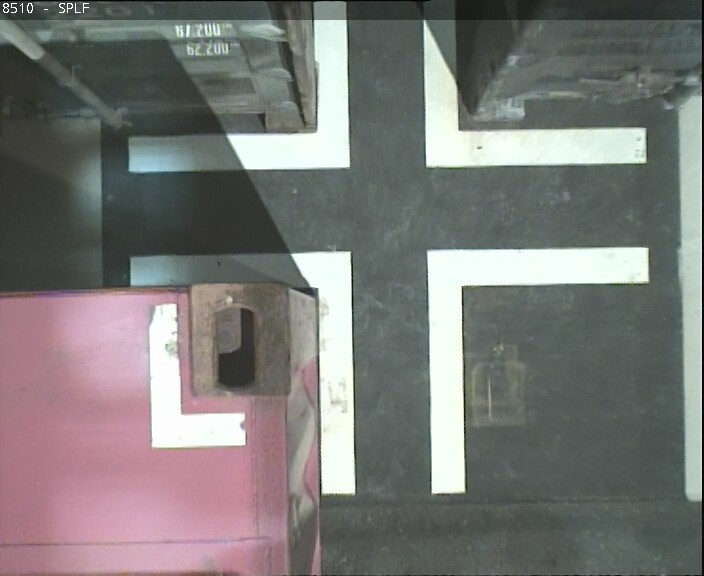groundmarker_1: (131, 243, 649, 494), (129, 1, 646, 174)
